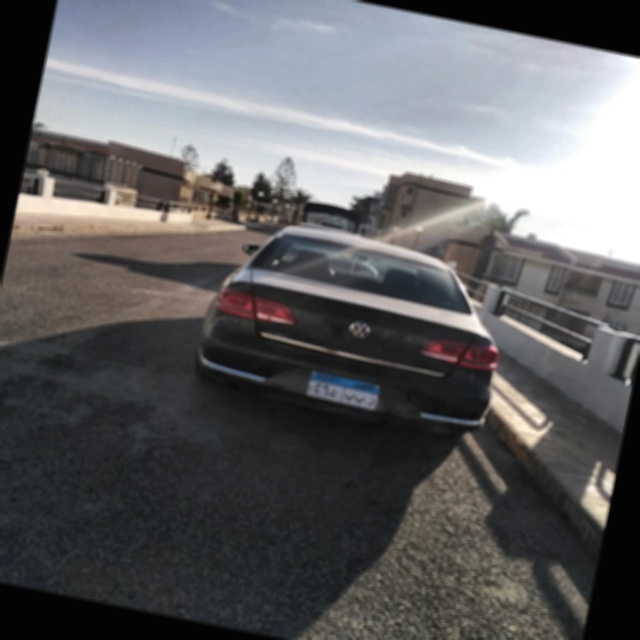License Plate: (304, 368, 384, 412)
